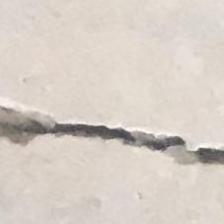Crack: (0, 86, 224, 189)
